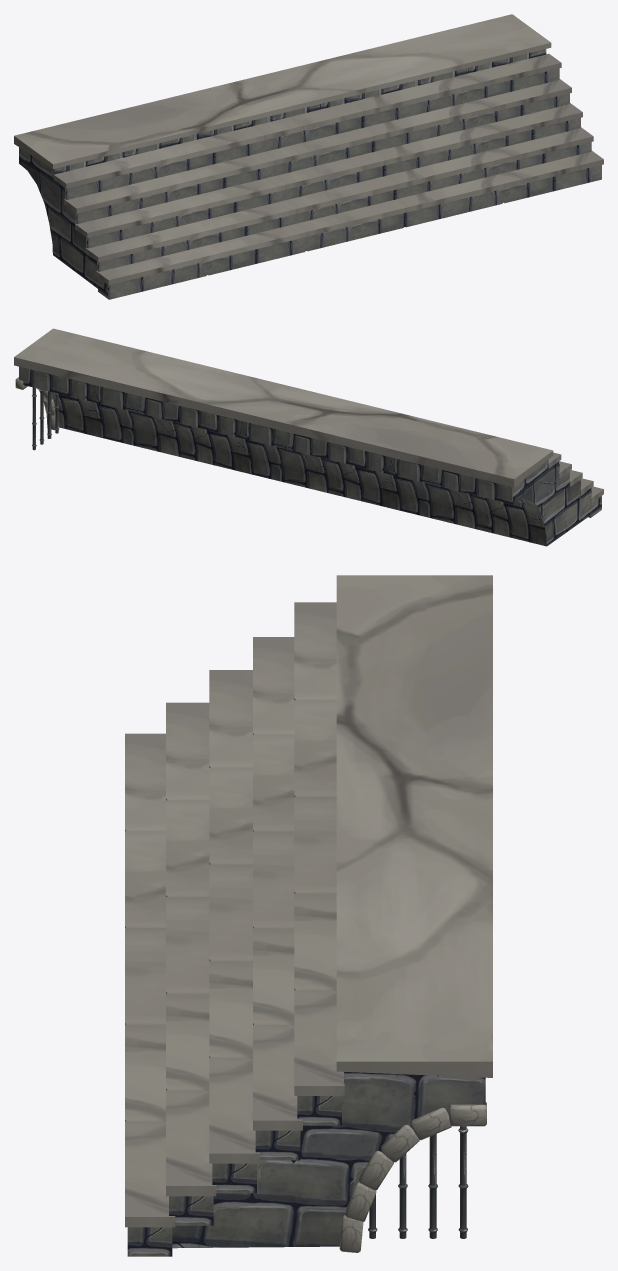
File: stairs.FBX
3 views of the same model, one above another, from view 1: azimuth 30°, elevation 25°; view 2: azimuth 150°, elevation 25°; view 3: azimuth 270°, elevation 25° (orthographic). The views are drawn at different scales.
Visible parts, largest first — view 1: Object005, Object, Object002, Object003, Object001, Object004, Box017, Box002, Box003, Box014, Box015, Box016; view 2: Box002, Object005; view 3: Object005, Object003, Object002, Object, Object001, Box002, Object004, Box014, Box017, Box015, Box003, Box016.
Part boxes in pixels (x1,y1,x2,y2): Object005: (14,14,551,168); Object: (53,53,561,188); Object002: (75,103,582,237); Object003: (85,127,593,262); Object001: (64,79,571,213); Object004: (96,150,603,285); Box017: (98,165,601,299); Box002: (19,49,546,295); Box003: (65,68,559,199); Box014: (76,93,569,224); Box015: (87,118,580,248); Box016: (97,142,591,271); Box002: (19,366,601,546); Object005: (14,328,553,487); Object005: (336,575,492,1077); Object003: (166,702,216,1196); Object002: (209,670,259,1163); Object: (294,602,344,1095); Object001: (253,637,302,1130); Box002: (172,1072,485,1248); Object004: (125,733,175,1227); Box014: (255,1130,300,1160); Box017: (127,1227,172,1256); Box015: (212,1163,256,1193); Box003: (297,1096,341,1125); Box016: (169,1196,213,1225).
Bounding box in the file's own units: 99.19 × 18.66 × 31.69.
Materials: 3 (3 with a texture image).
